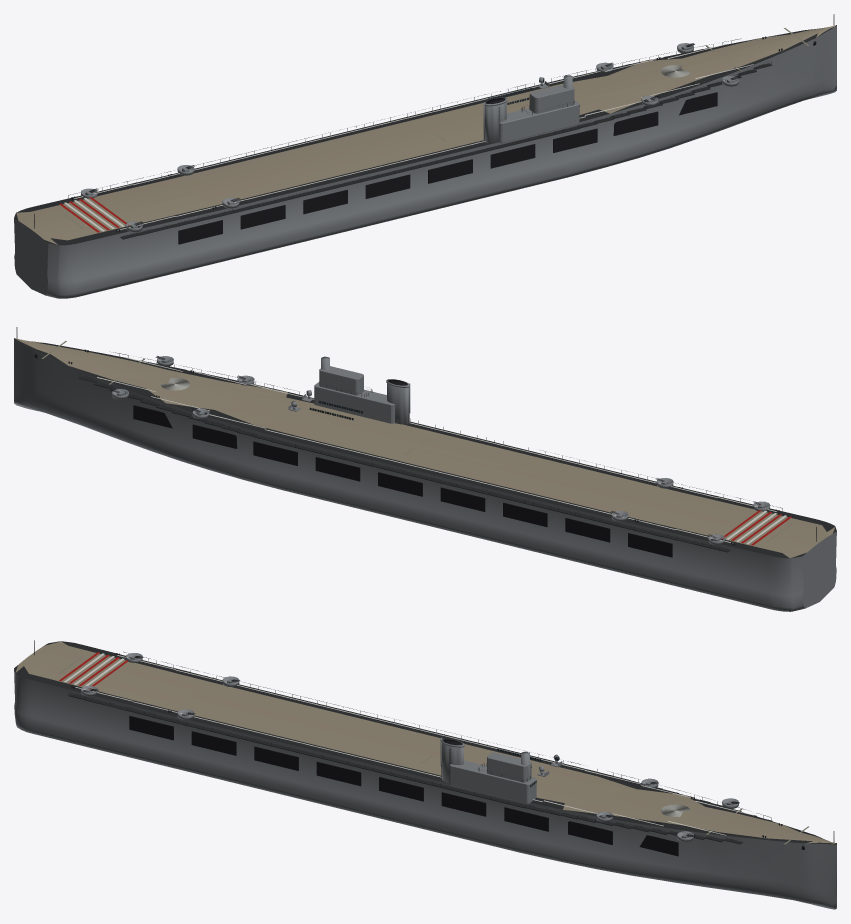
Rendered from taiho_lod.glb.
3 views of the same model, one above another, from view 1: azimuth 30°, elevation 25°; view 2: azimuth 150°, elevation 25°; view 3: azimuth 330°, elevation 25° (orthographic).
Visible parts, largest first — view 1: taiho_lod; view 2: taiho_lod; view 3: taiho_lod.
Boxes of the visible parts, left/top/right/bottom form: taiho_lod: left=14, top=14, right=836, bottom=298; taiho_lod: left=14, top=327, right=836, bottom=611; taiho_lod: left=14, top=640, right=836, bottom=909.
Bounding box in the file's own units: 261 × 31.49 × 30.8.
